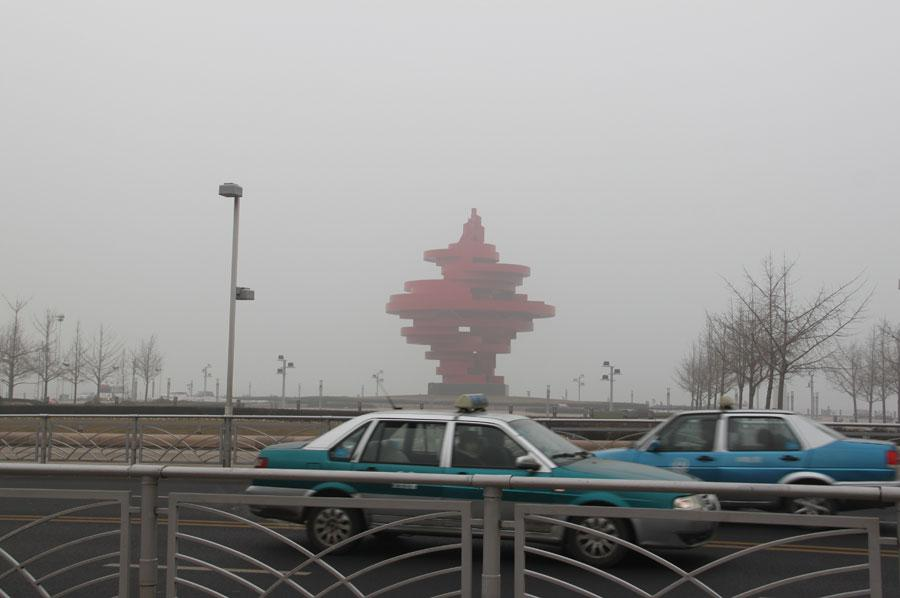car: (243, 392, 721, 566), (554, 393, 900, 529)
